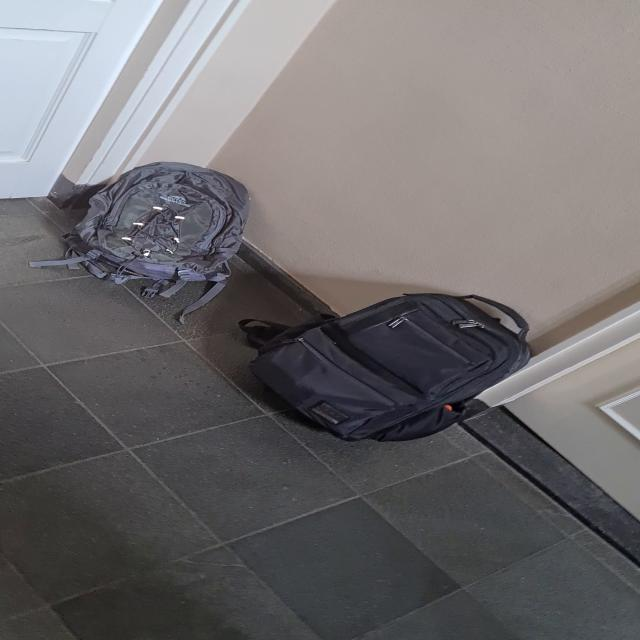backpack: (237, 290, 540, 446), (68, 158, 258, 290)
